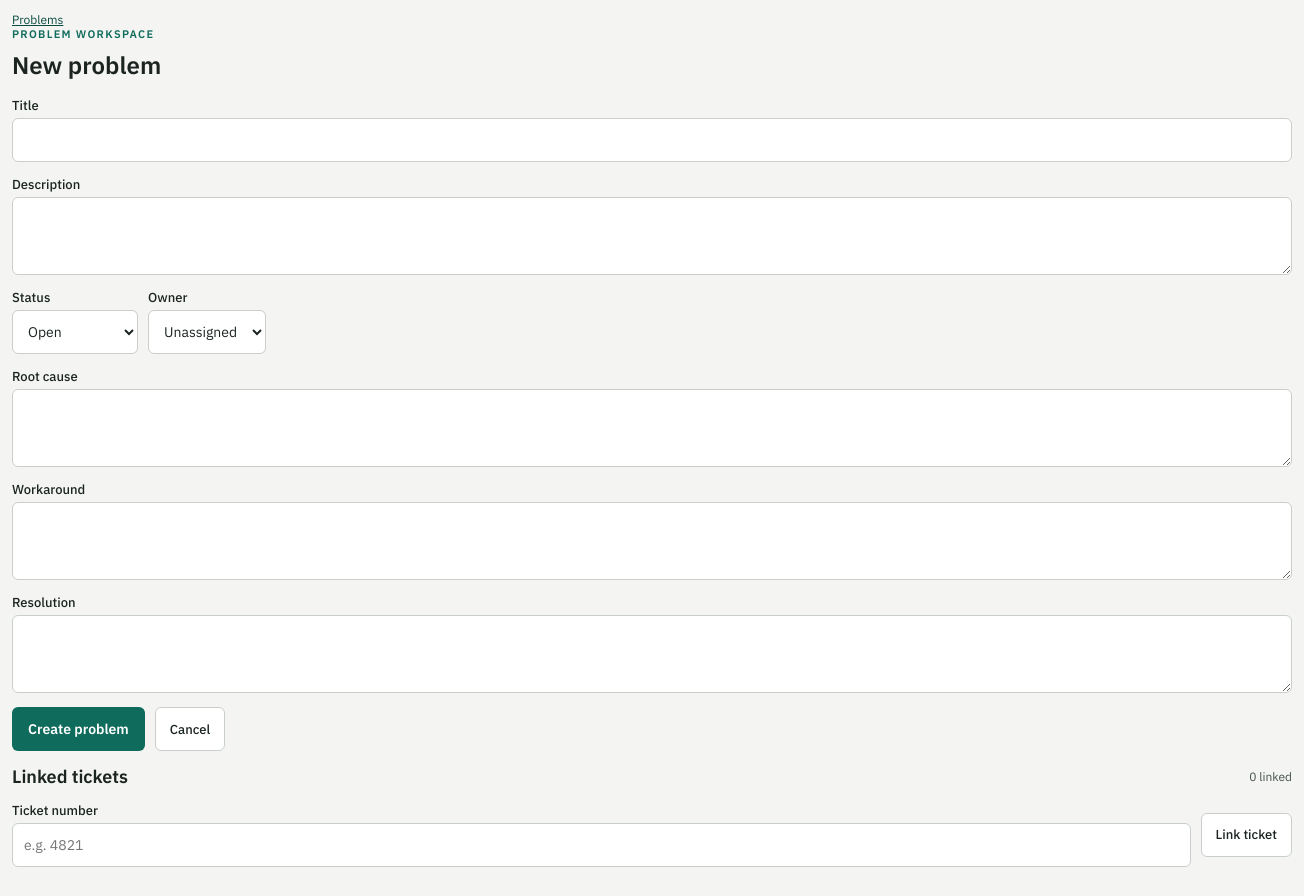
Test case: create a problem, link a visible ticket and retain it on save
Type "Wi-Fi drops after resume" into the field labelled "Title" at (652, 140), box x1=12 y1=118 x2=1292 y2=162
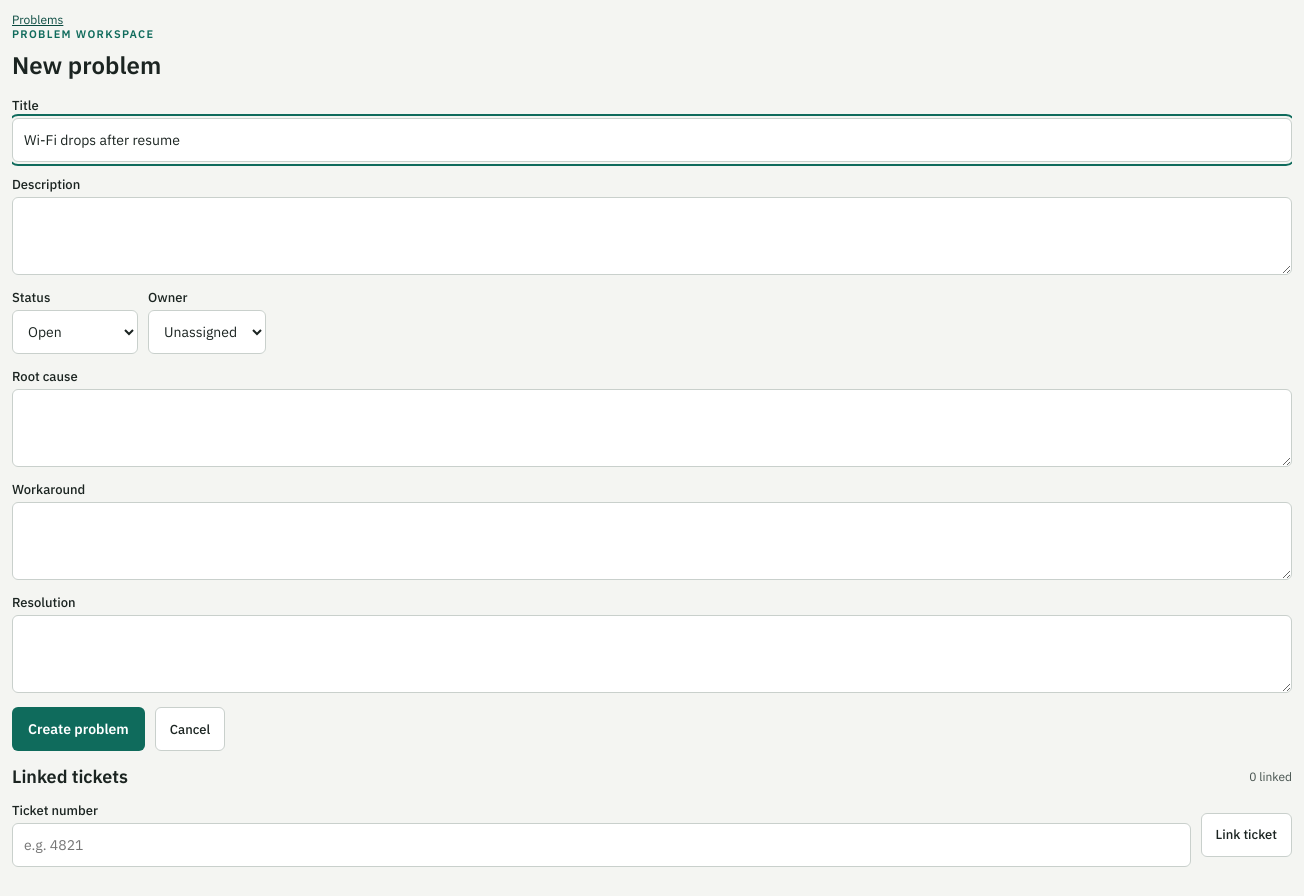
Type "Several laptops lose connection when waking." into the text box labelled "Description" at (652, 236), box x1=12 y1=197 x2=1292 y2=275
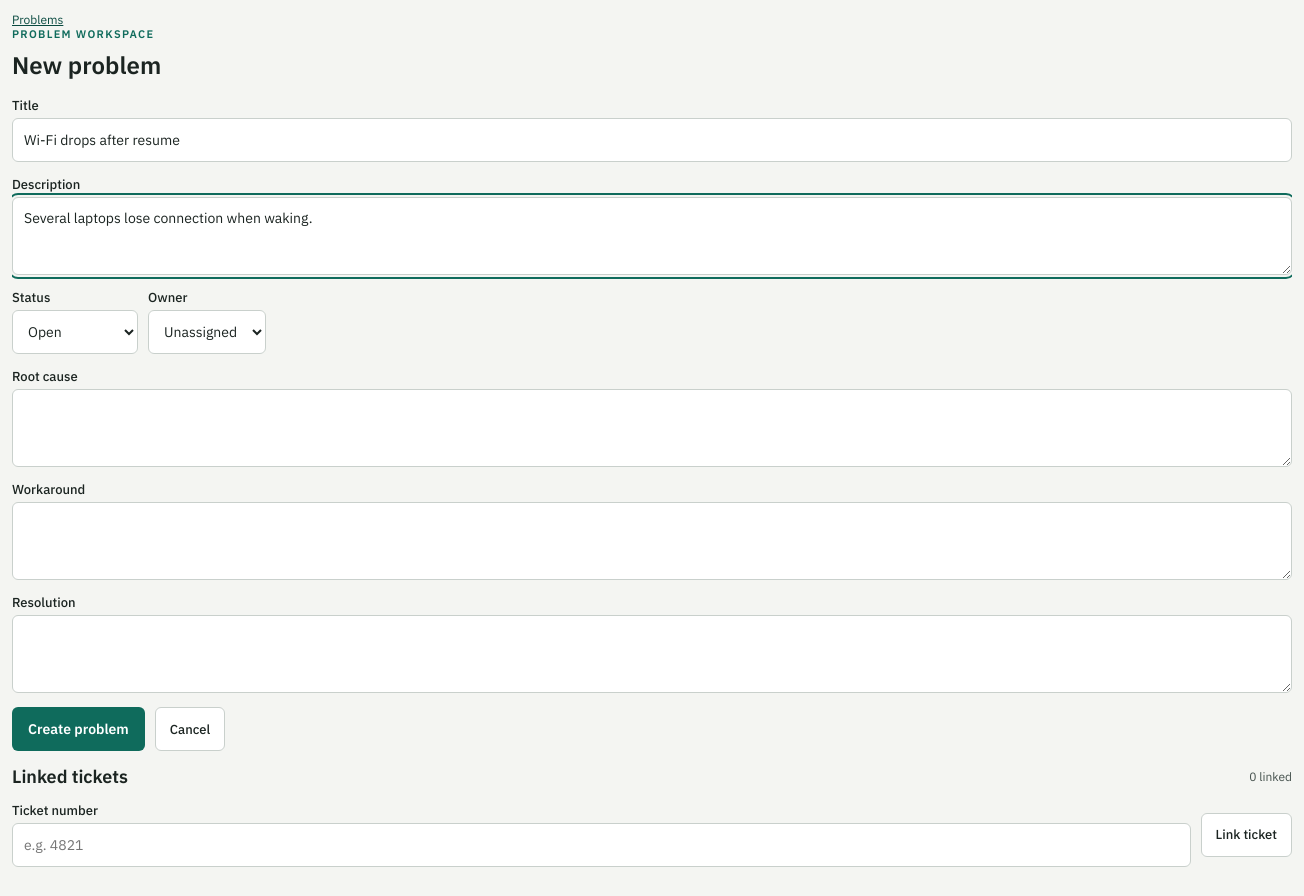
Type "4821" into the field labelled "Ticket number" at (601, 845), box x1=12 y1=823 x2=1190 y2=867
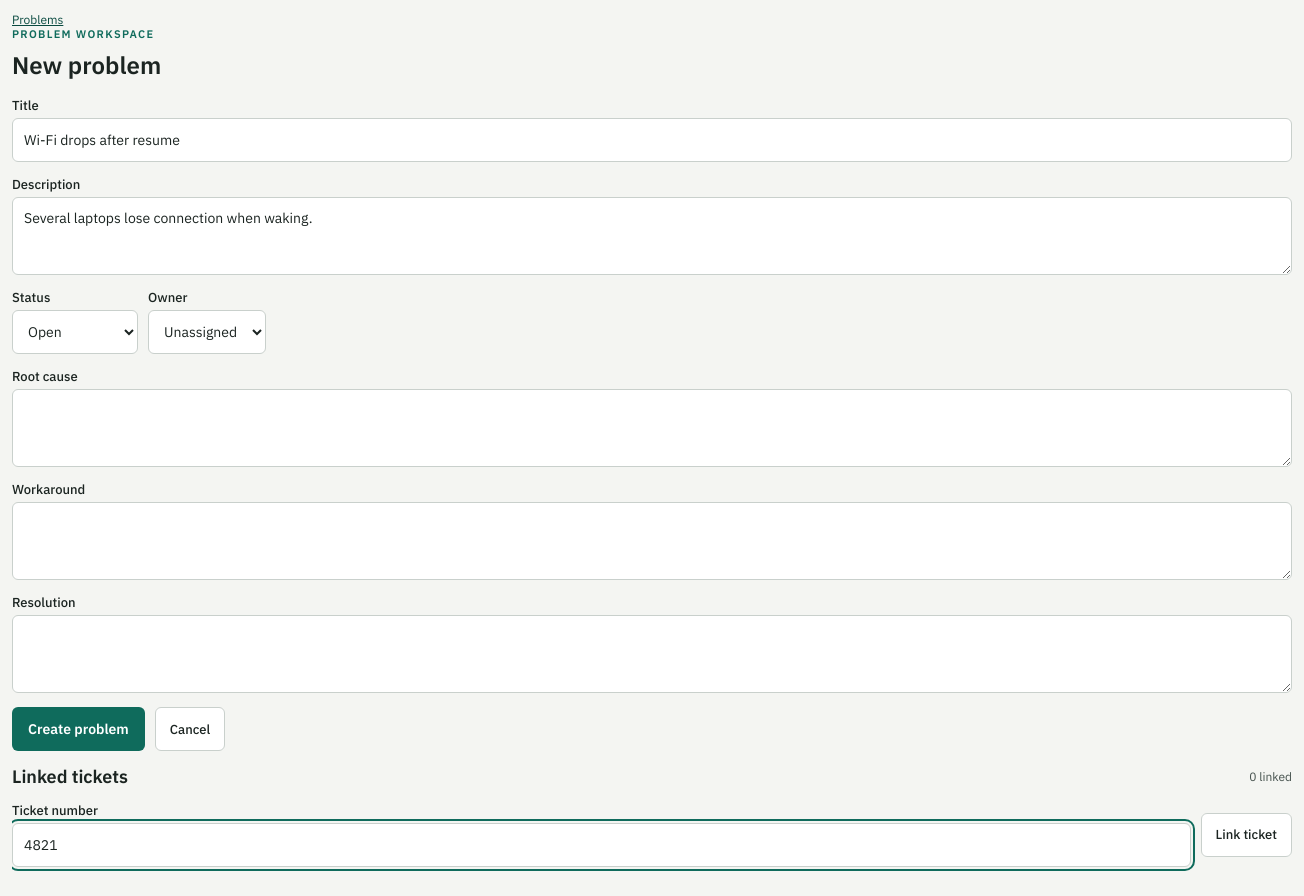
Click the button "Link ticket" at (1246, 834), box x1=1200 y1=812 x2=1292 y2=856
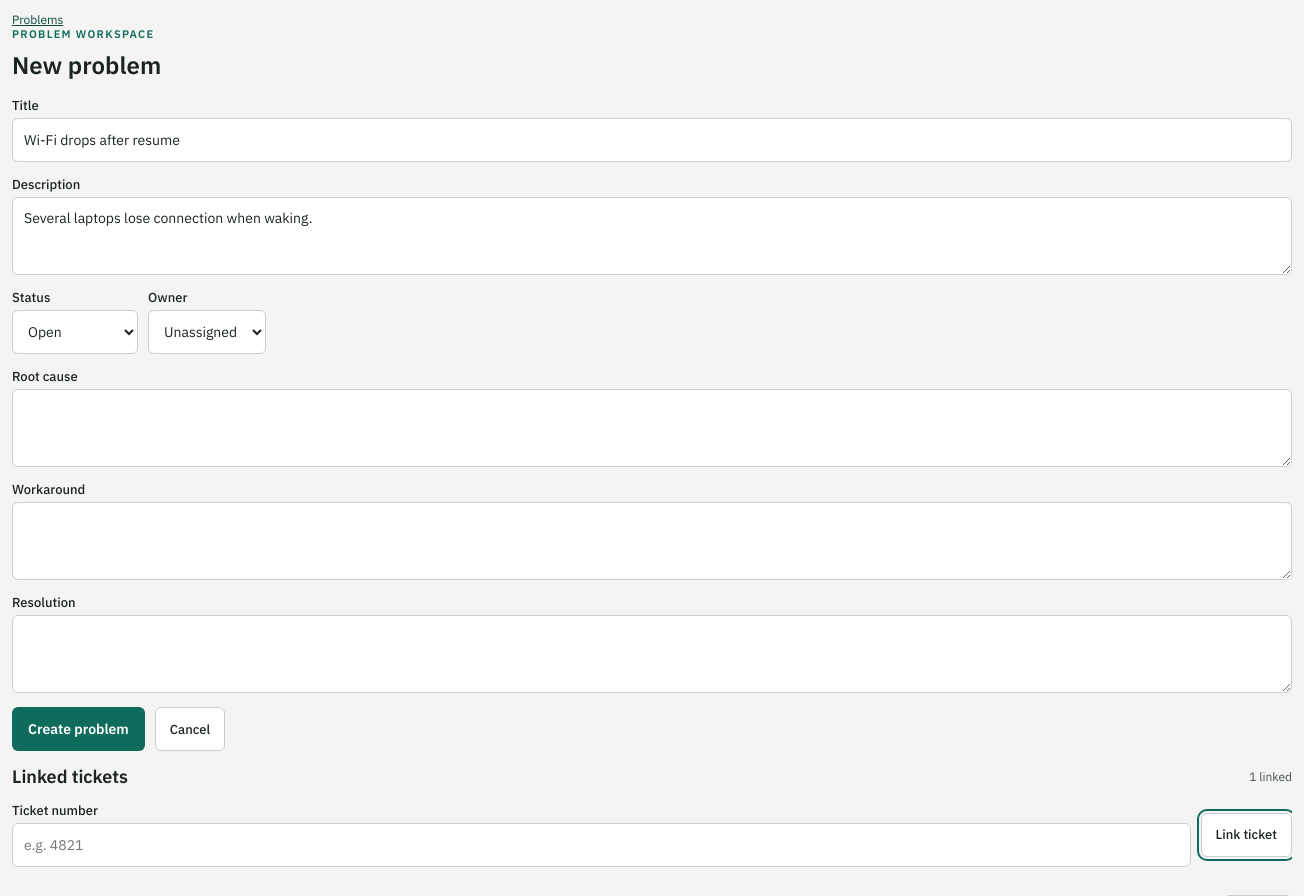
Click the button "Create problem" at (78, 729), box x1=12 y1=707 x2=145 y2=751
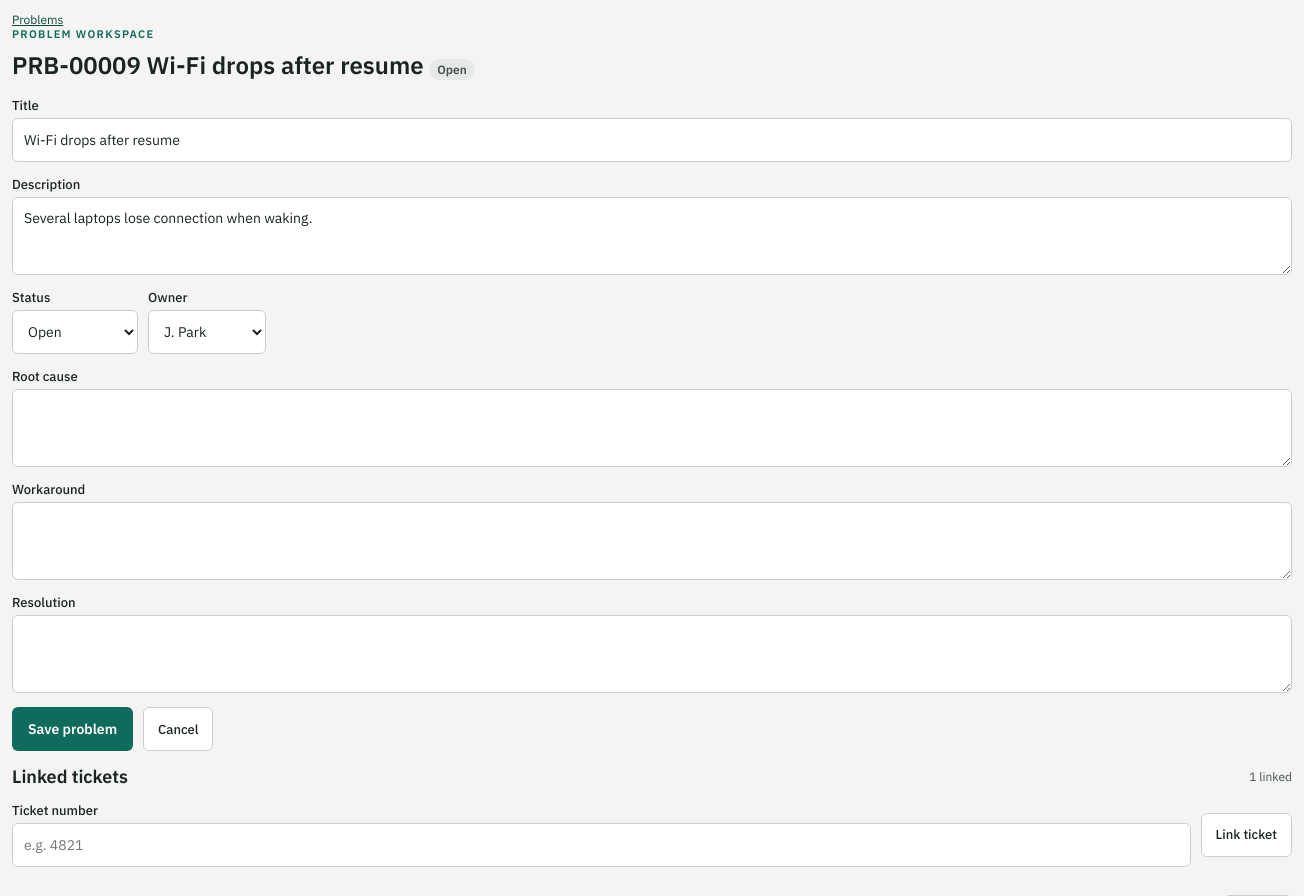
Expected: the heading "PRB-00009 Wi-Fi drops after resume Open" is shown, x1=12 y1=49 x2=475 y2=81
